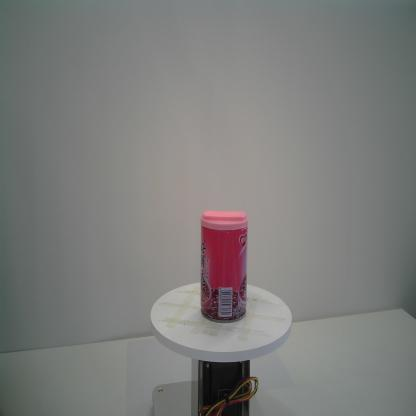Canned Food: (200, 210, 248, 323)
